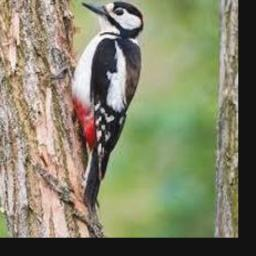Woodpecker: (71, 2, 144, 210)
